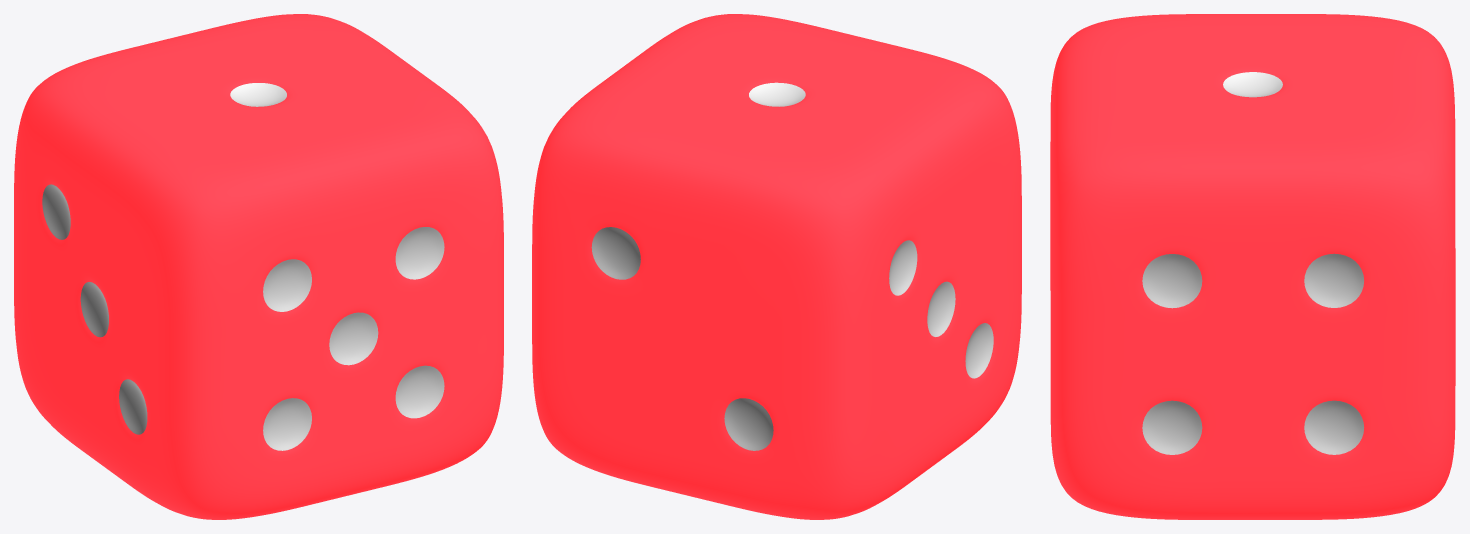
3 views of the same model, side by side, from view 1: azimuth 30°, elevation 25°; view 2: azimuth 150°, elevation 25°; view 3: azimuth 270°, elevation 25° (orthographic). The views are drawn at different scales.
Visible parts, largest first — view 1: Dice_Cube; view 2: Dice_Cube; view 3: Dice_Cube.
Part boxes in pixels (x1,y1,x2,y2): Dice_Cube: [14, 14, 503, 519]; Dice_Cube: [532, 14, 1021, 519]; Dice_Cube: [1050, 14, 1455, 519].
Size of the model in its own units: 2 by 2 by 2.
